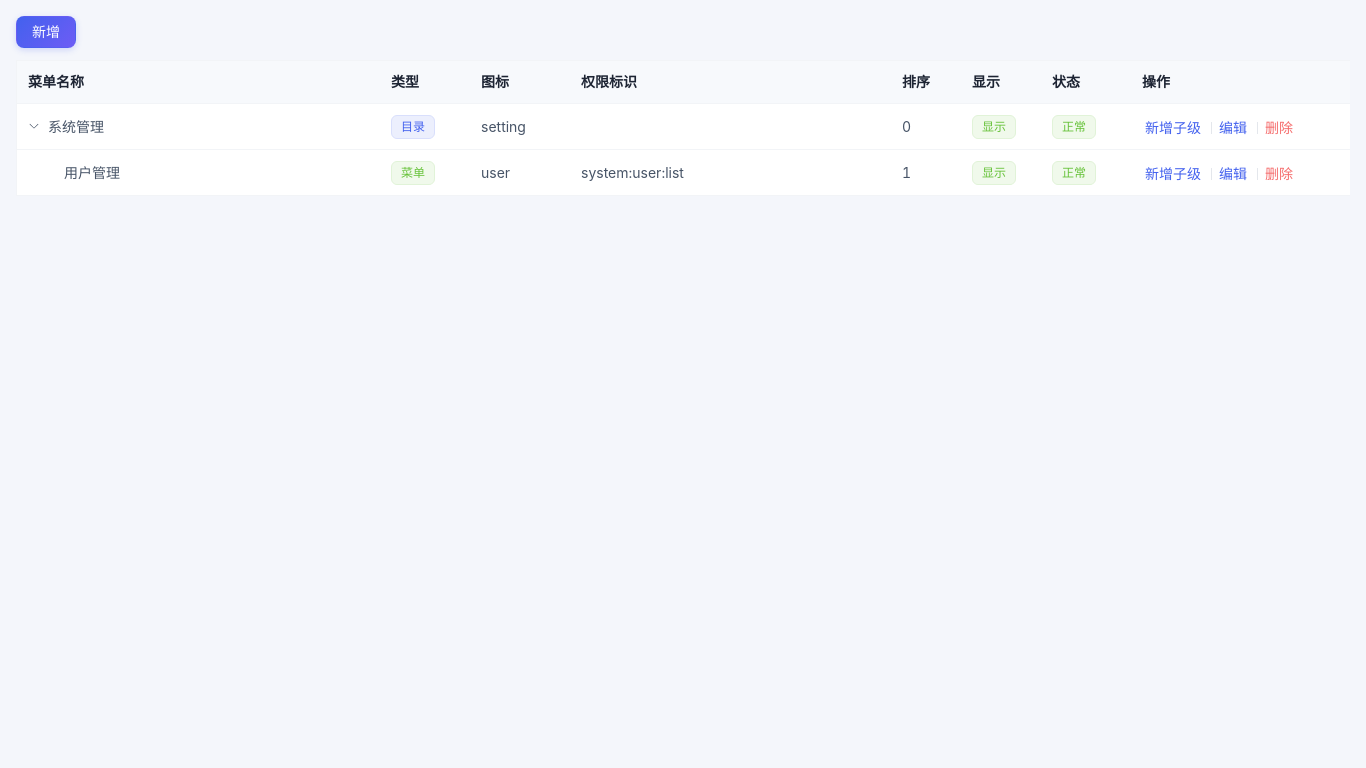
Scenario: 菜单管理页 › 点新增 → 打开表单对话框
Click the button "新增" at (46, 32), box 16,16 -> 76,48
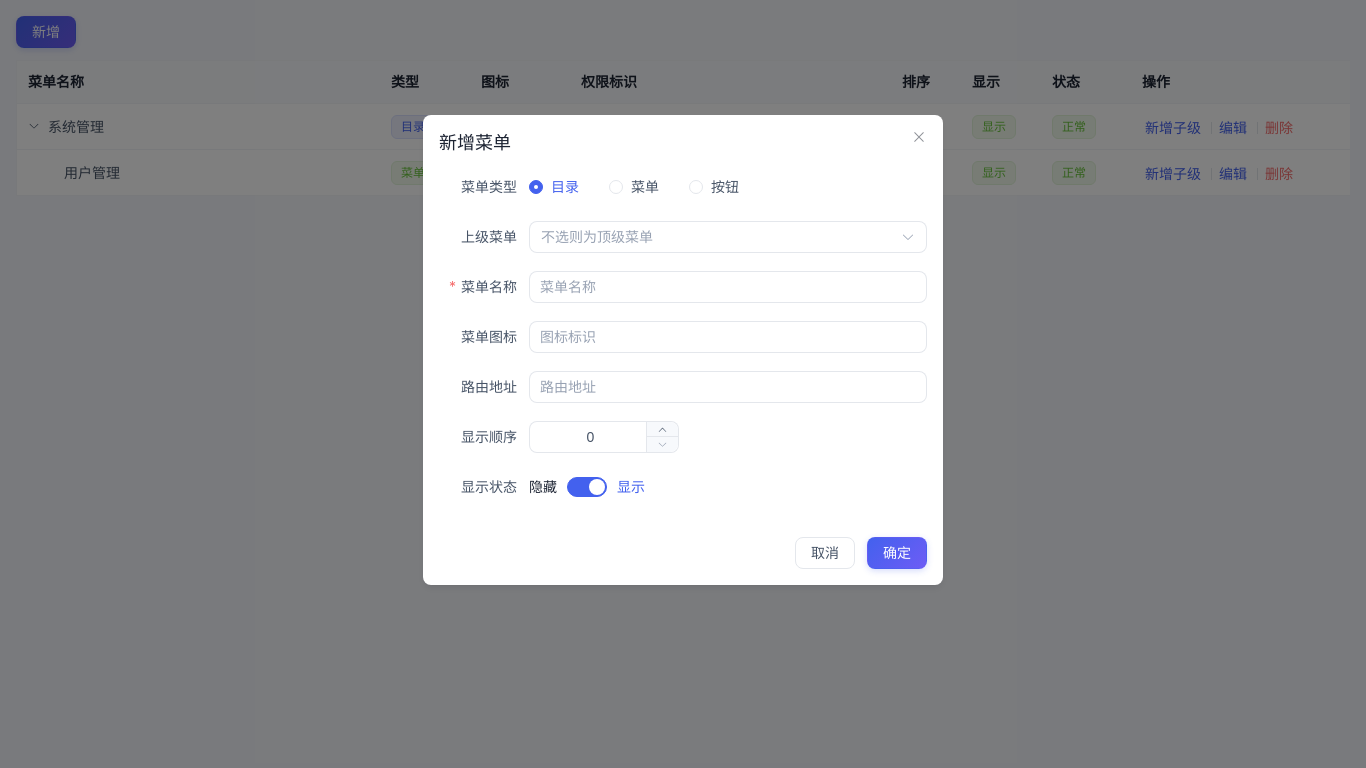
Expected: the text "新增菜单" is shown, 439,132 -> 511,153
